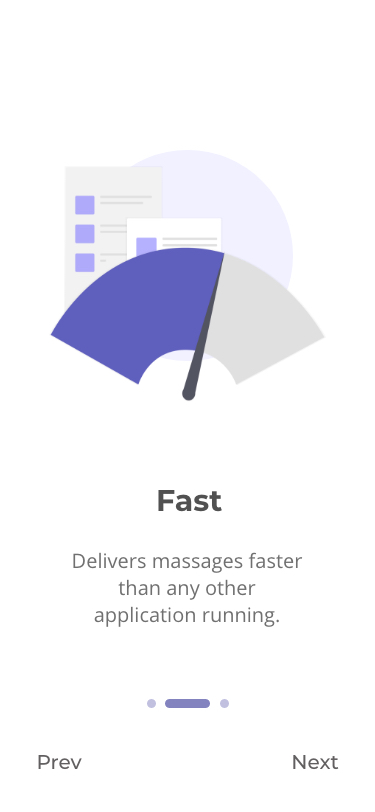Image: (51, 150, 326, 402)
PageIndicator: (146, 698, 230, 709)
Text: (73, 552, 303, 627), (158, 489, 223, 513), (293, 754, 339, 770), (38, 754, 83, 770)
